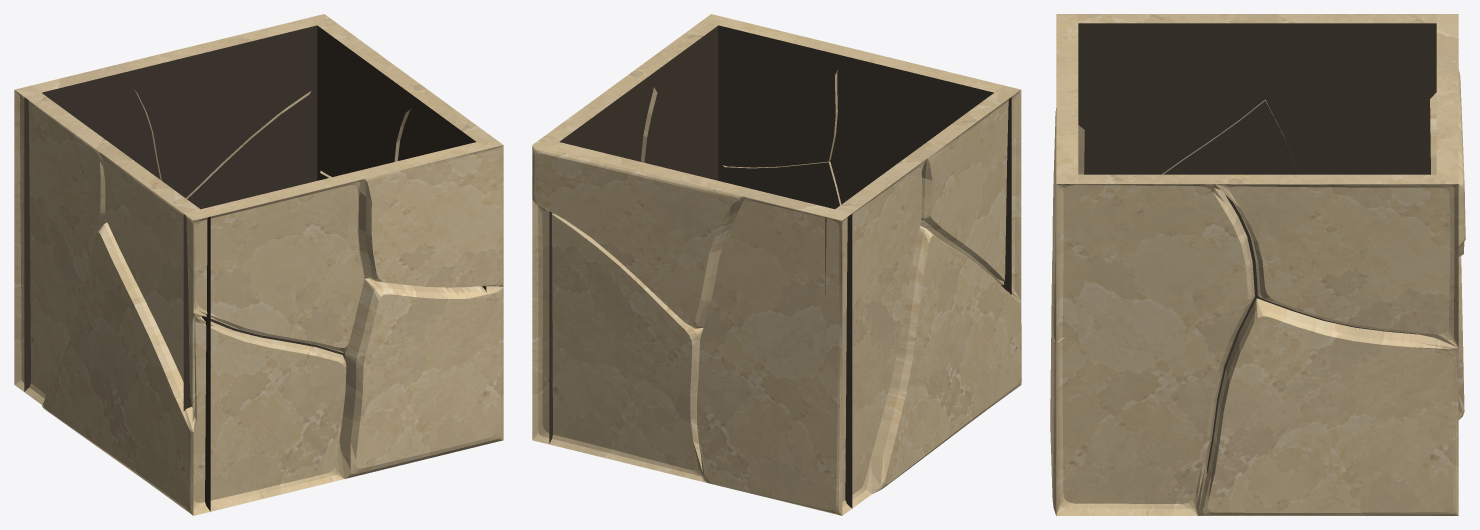
Rendered from ground_island_10.glb.
3 views of the same model, side by side, from view 1: azimuth 30°, elevation 25°; view 2: azimuth 150°, elevation 25°; view 3: azimuth 270°, elevation 25° (orthographic). The views are drawn at different scales.
Parts seen in each view (by area): view 1: GroundIsland10_Body; view 2: GroundIsland10_Body; view 3: GroundIsland10_Body.
Boxes of the visible parts, <box> form: GroundIsland10_Body: <box>14,14,503,515</box>; GroundIsland10_Body: <box>532,14,1021,515</box>; GroundIsland10_Body: <box>1050,14,1465,515</box>.
Bounding box in the file's own units: 1.03 × 0.91 × 1.03.
Materials: 15 (14 with a texture image).
